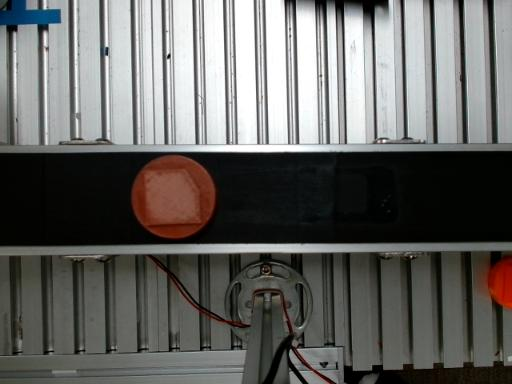Brown_Waper: (131, 155, 216, 238)
Not_Square: (144, 166, 204, 227)
